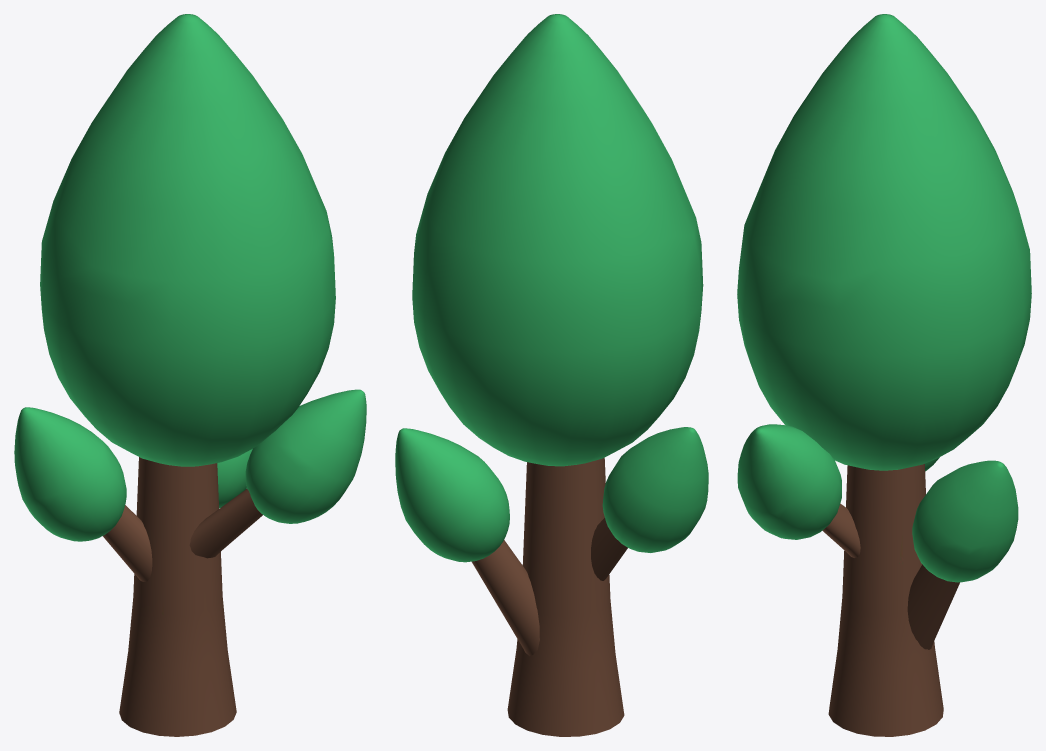
Rendered from Arbol3.fbx.
3 renders of one model, left to right at view 1: azimuth 30°, elevation 25°; view 2: azimuth 150°, elevation 25°; view 3: azimuth 270°, elevation 25°, orthographic.
Visible parts, largest first — view 1: polySurface192; view 2: polySurface192; view 3: polySurface192.
Part boxes in pixels (x1,y1,x2,y2): polySurface192: (14,14,366,736); polySurface192: (395,14,708,736); polySurface192: (737,14,1031,736).
Bounding box in the file's own units: 4.8 × 11.18 × 4.26.
Materials: 1 (1 with a texture image).
